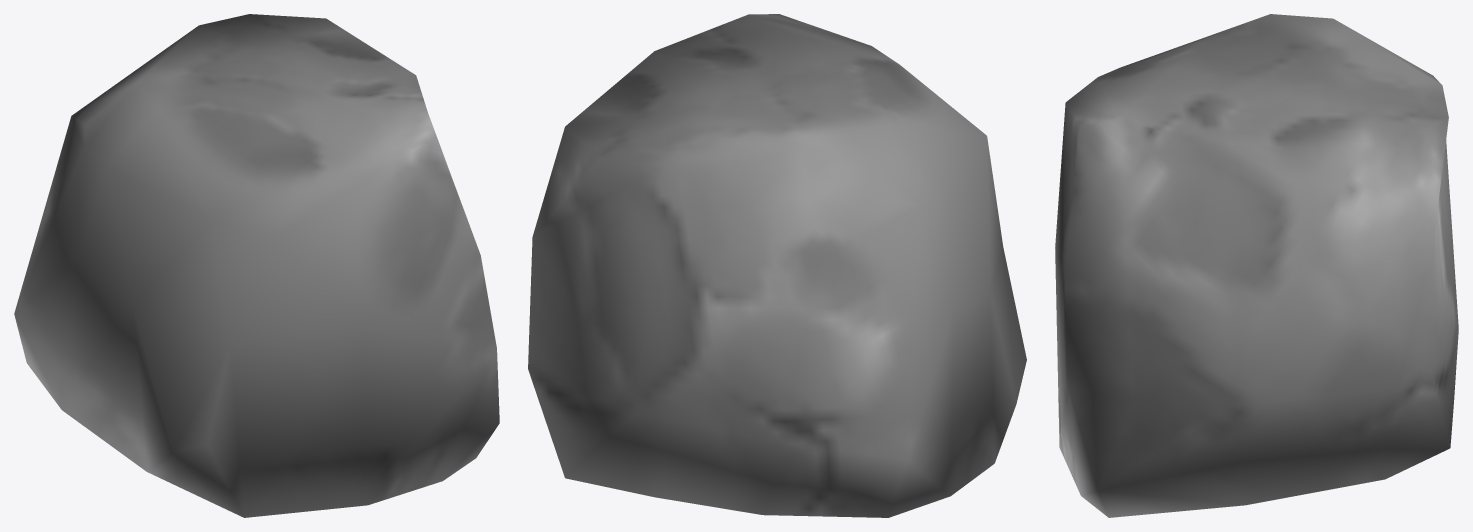
File: Rock_2.fbx
3 renders of one model, left to right at view 1: azimuth 30°, elevation 25°; view 2: azimuth 150°, elevation 25°; view 3: azimuth 270°, elevation 25°, orthographic. The views are drawn at different scales.
Parts seen in each view (by area): view 1: Rock_2; view 2: Rock_2; view 3: Rock_2.
Part boxes in pixels (box(x1,y1,x2,y2)): Rock_2: box(14, 14, 499, 517); Rock_2: box(528, 14, 1026, 517); Rock_2: box(1055, 14, 1458, 517).
Bounding box in the file's own units: 31.33 × 30.58 × 29.29.
